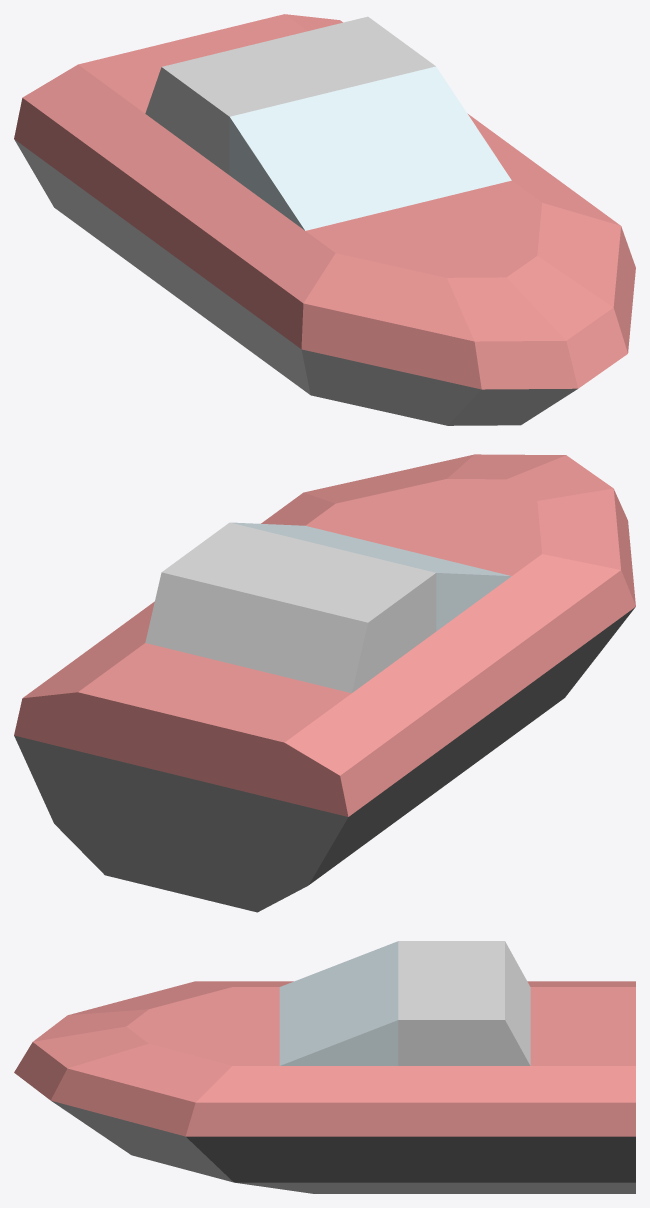
The model's file is boat_018.glb.
The picture shows the model from 3 angles, top to bottom: view 1: azimuth 30°, elevation 25°; view 2: azimuth 150°, elevation 25°; view 3: azimuth 270°, elevation 25°; orthographic projection. The views are drawn at different scales.
Visible parts, largest first — view 1: boat_018; view 2: boat_018; view 3: boat_018.
Part boxes in pixels (bbox=[...]): boat_018: bbox=[14, 14, 635, 425]; boat_018: bbox=[14, 454, 635, 912]; boat_018: bbox=[14, 941, 635, 1193].
Size of the model in its own units: 1.78 by 1.2 by 3.67.
